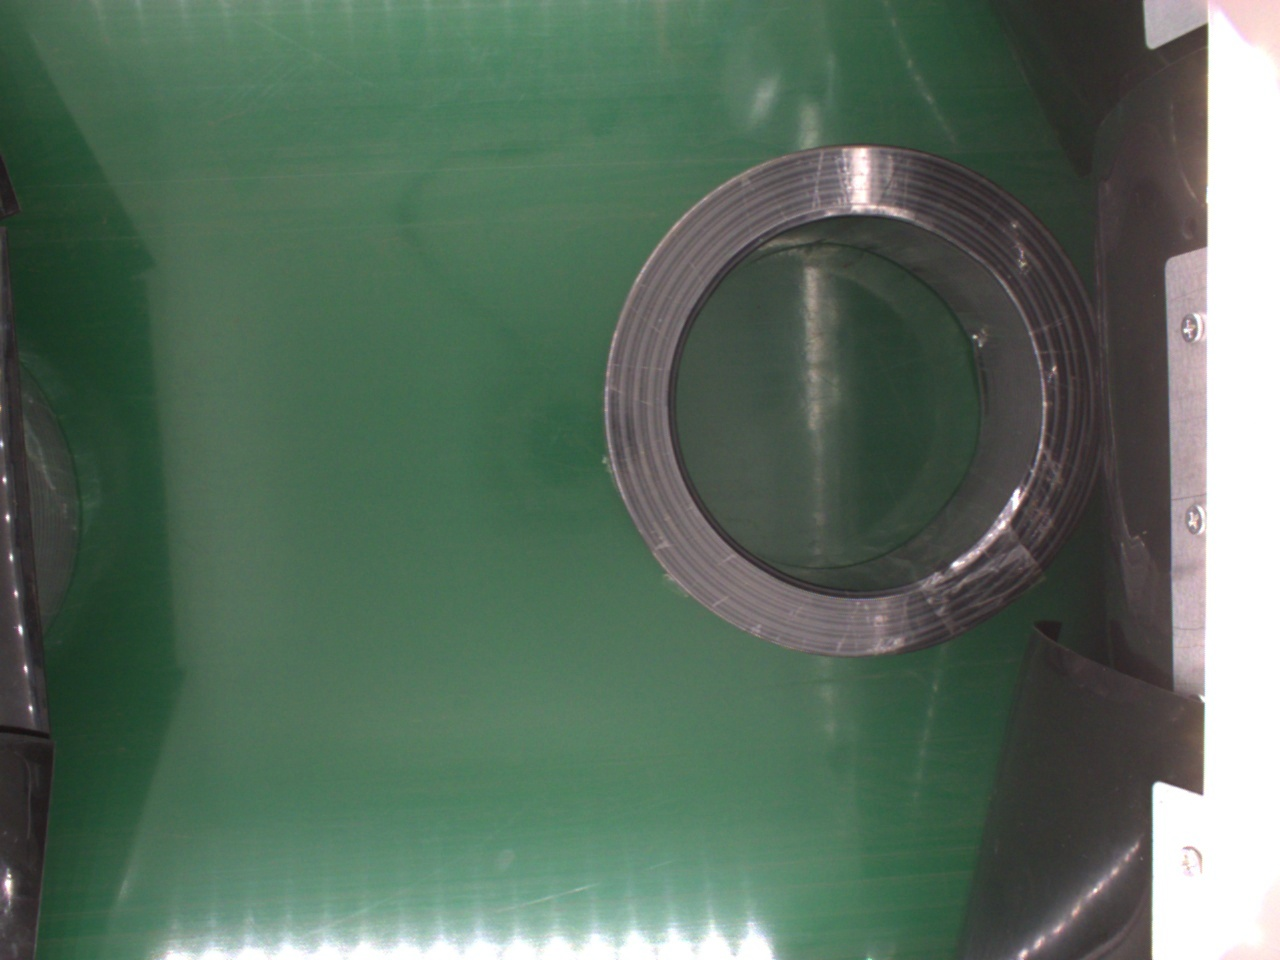black: (601, 140, 1094, 658)
